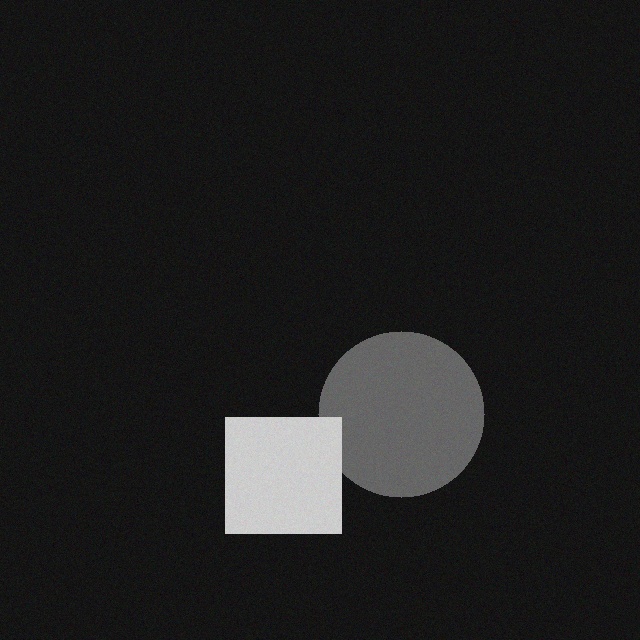circle: (309, 330, 475, 496)
square: (216, 416, 332, 532)
